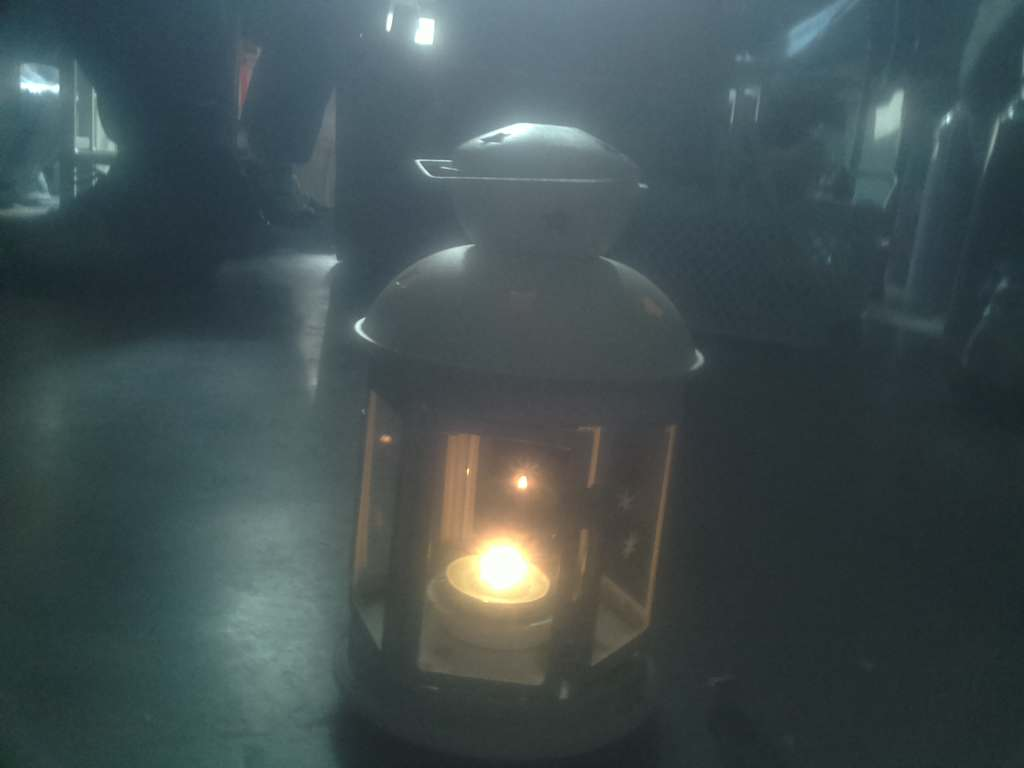fire: (445, 524, 555, 617)
